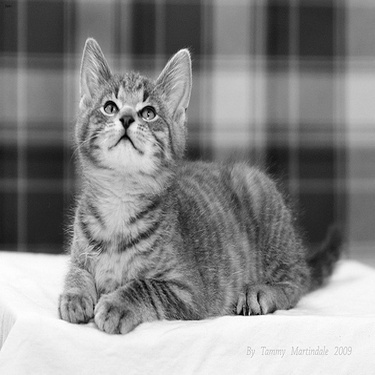cat: (52, 32, 347, 337)
